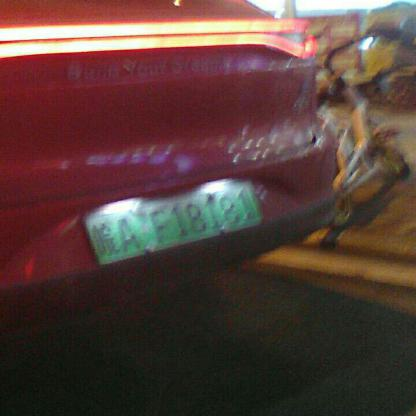lp: (83, 176, 265, 263)
